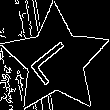L_NE: (27, 33, 84, 88)
